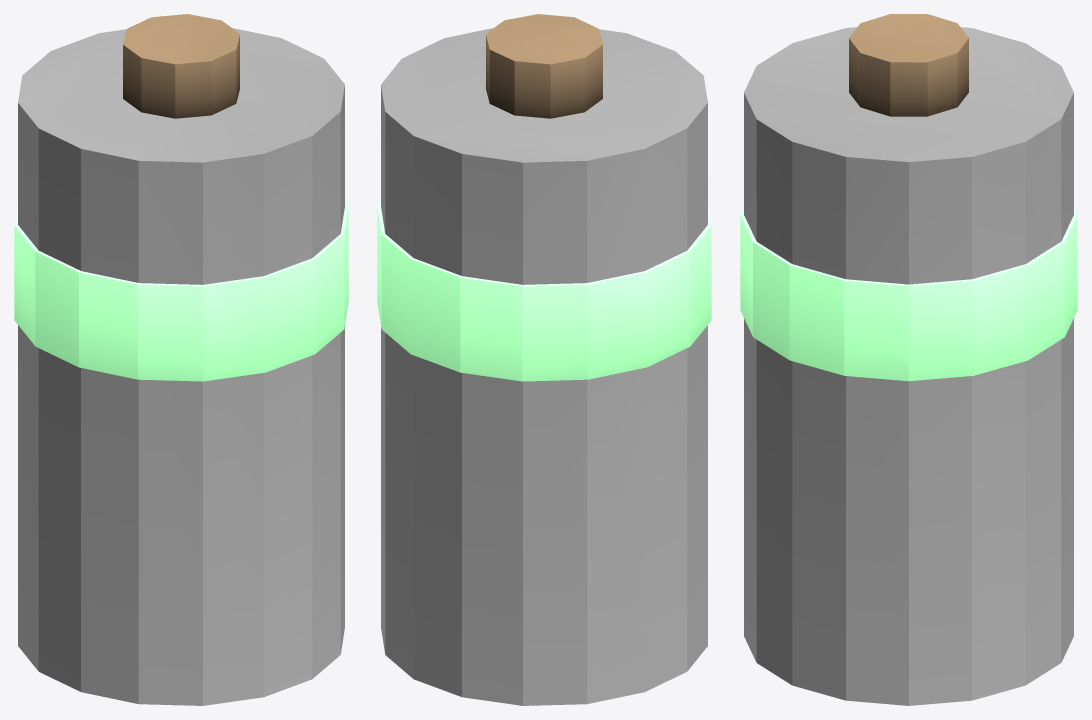
Rendered from Loot_LampCell.fbx.
3 renders of one model, left to right at view 1: azimuth 30°, elevation 25°; view 2: azimuth 150°, elevation 25°; view 3: azimuth 270°, elevation 25°, orthographic.
Visible parts, largest first — view 1: Loot_LampCell; view 2: Loot_LampCell; view 3: Loot_LampCell.
Boxes of the visible parts, bbox=[...] form: Loot_LampCell: bbox=[14, 14, 348, 705]; Loot_LampCell: bbox=[377, 14, 711, 705]; Loot_LampCell: bbox=[740, 14, 1077, 705].
Size of the model in its own units: 0.045 by 0.088 by 0.045.
